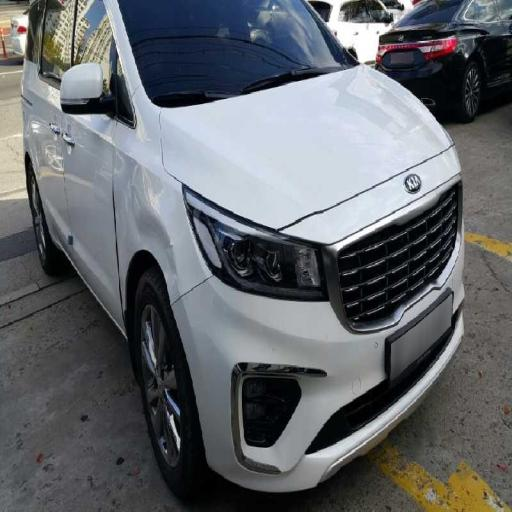dent: (102, 126, 220, 304)
